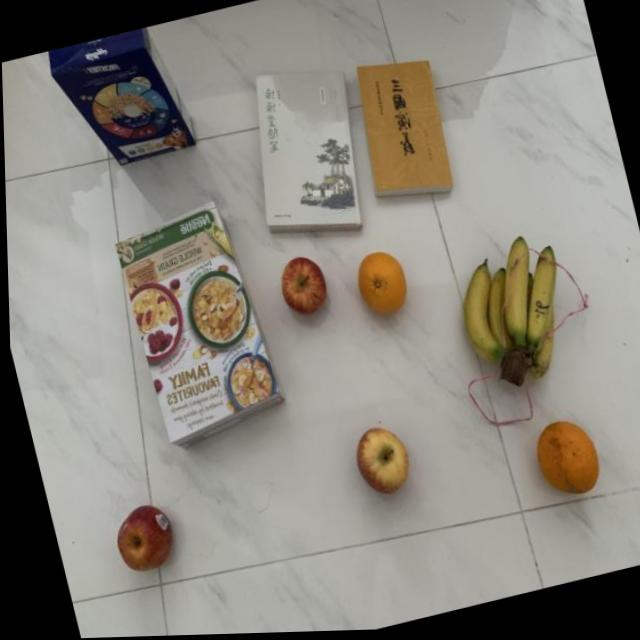Apple: (95, 491, 183, 584), (340, 415, 415, 505), (268, 252, 329, 326)
Banana: (440, 223, 586, 400)
Book: (225, 50, 381, 255), (338, 46, 460, 213)
Cerealbox: (101, 192, 296, 467), (42, 20, 202, 190)
Orange: (522, 412, 607, 508), (340, 239, 416, 330)
